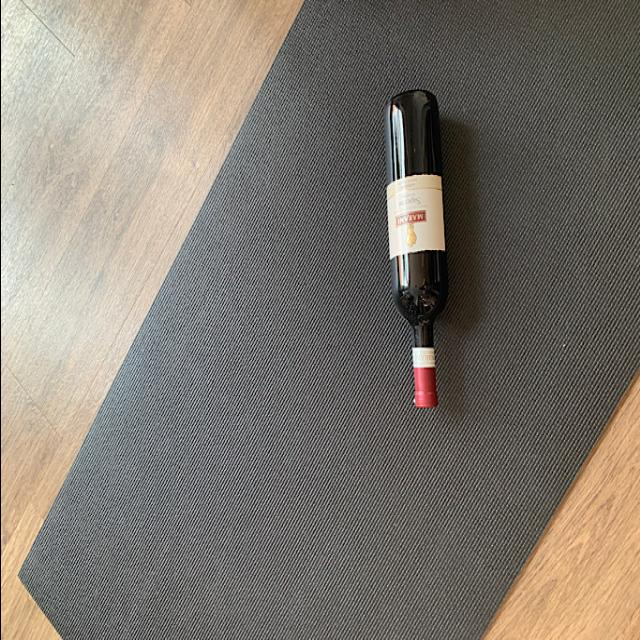Glass Bottle: (378, 86, 448, 414)
